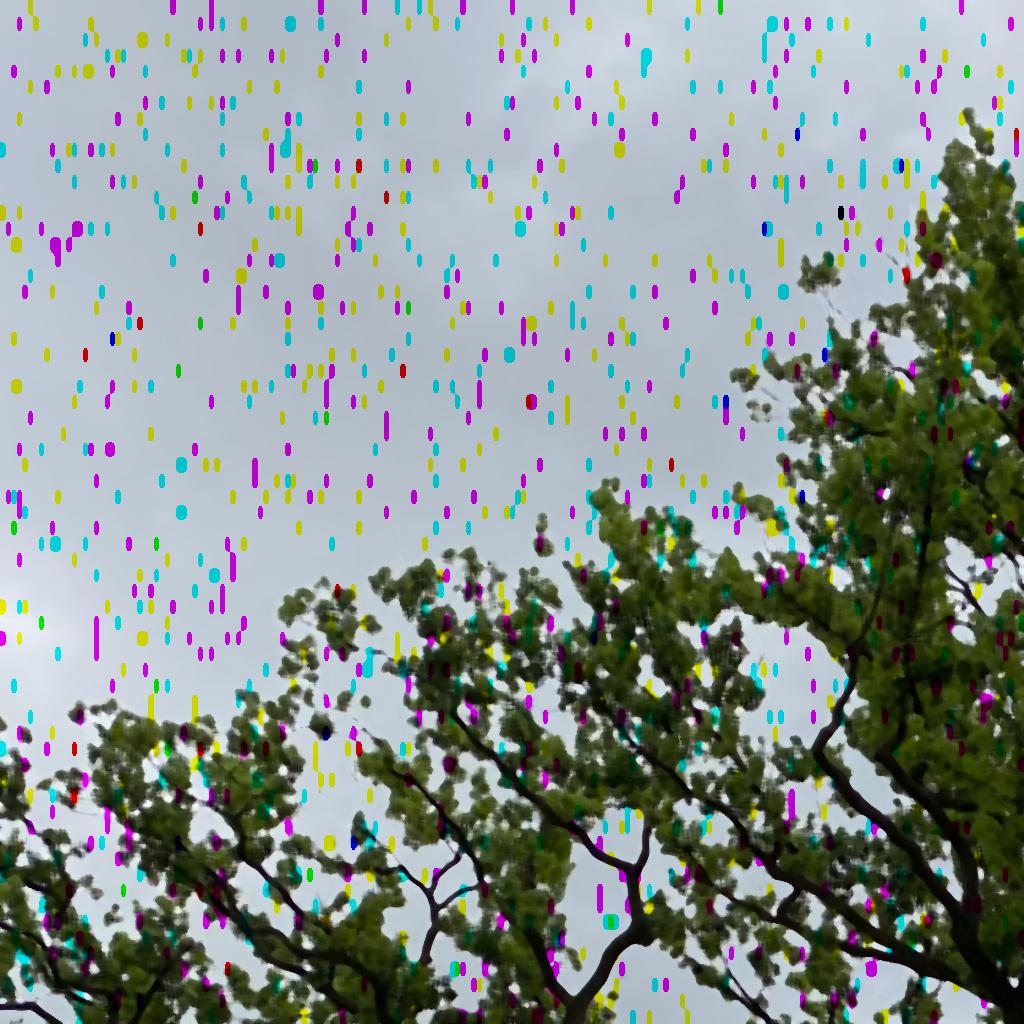tree: (1, 106, 1024, 1023)
